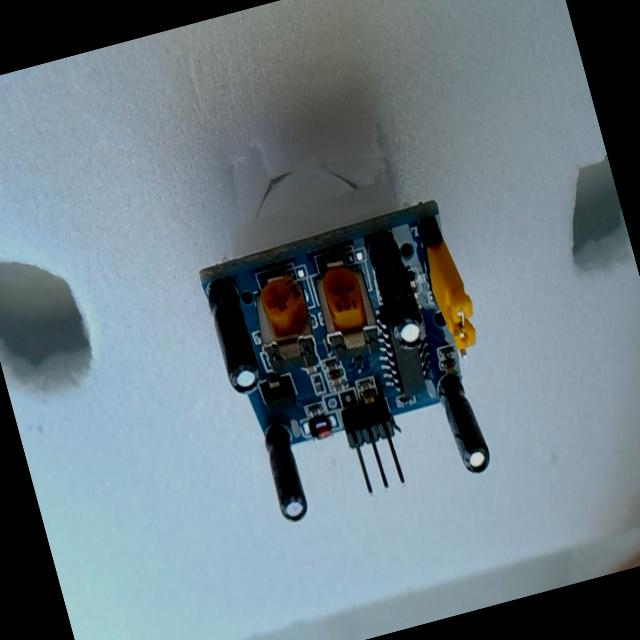Electrolytic capacitor: (363, 228, 430, 351), (202, 276, 264, 396), (432, 367, 494, 481), (257, 418, 312, 526)
IC: (367, 302, 440, 399)
pinheader: (338, 396, 413, 498)
